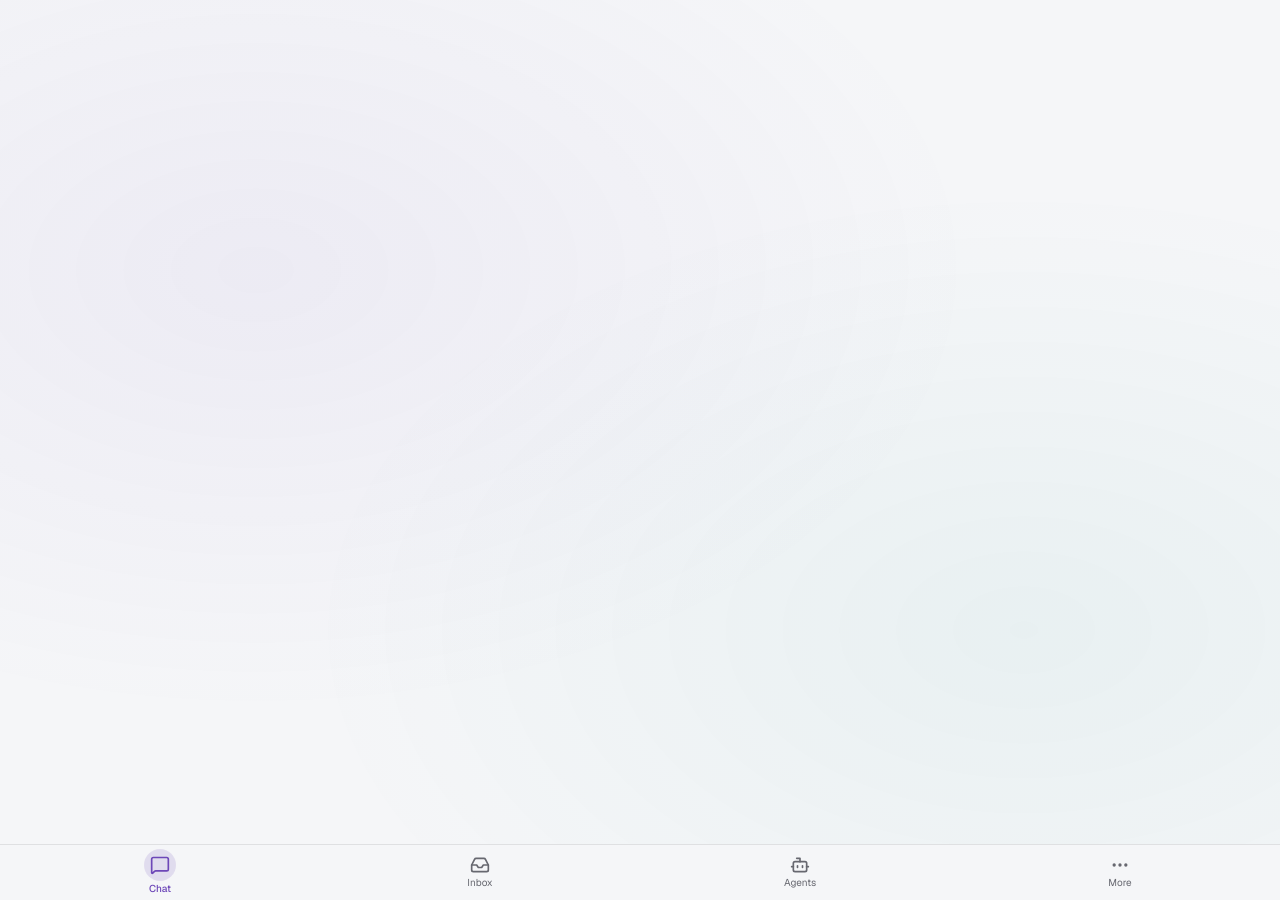
Scenario: MobileTabBar › hides Memory and Logs from an auditor, and keeps Audit
Click the button with test id "mobile-tab-more" at {"x": 1120, "y": 872}, box [1098,850,1142,894]
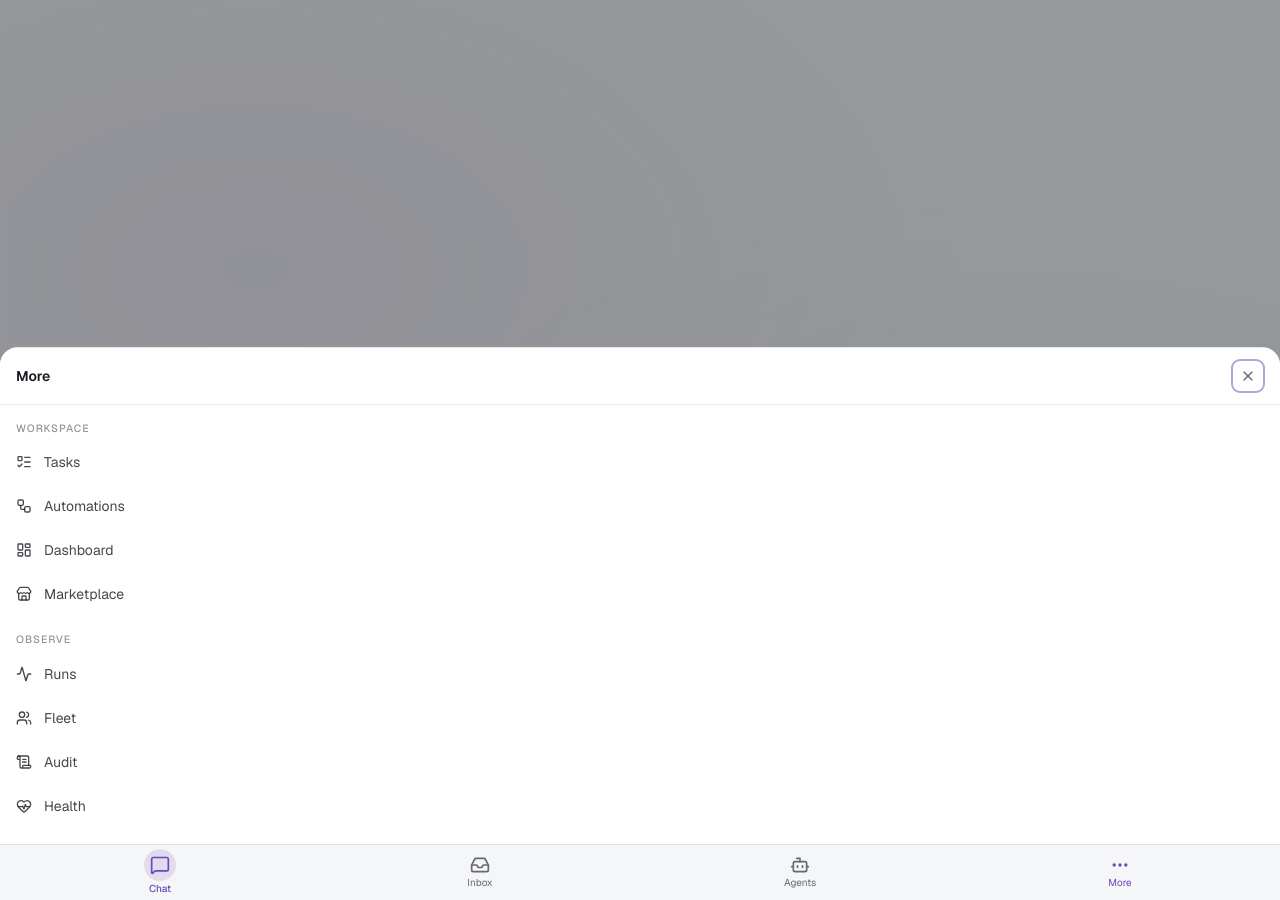
Now the button with test id "more-nav-audit" is shown, box [8,740,1272,784]
